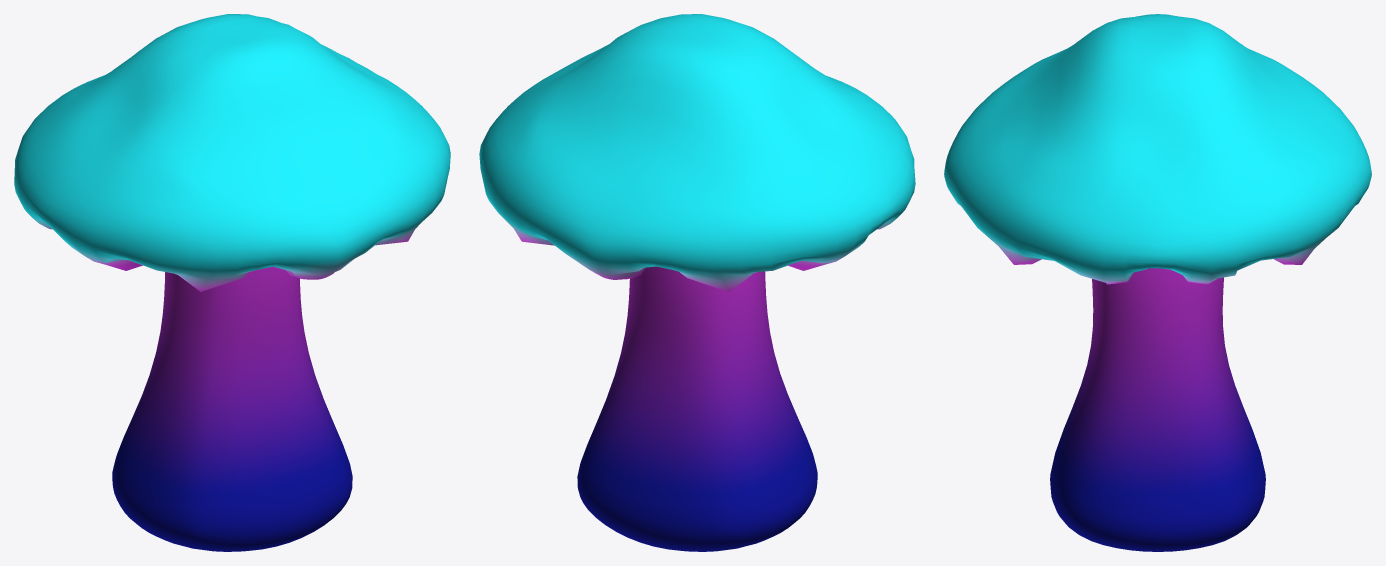
File: Mushroom_cool blueuntitled.fbx
The picture shows the model from 3 angles, left to right: view 1: azimuth 30°, elevation 25°; view 2: azimuth 150°, elevation 25°; view 3: azimuth 270°, elevation 25°; orthographic projection.
Parts seen in each view (by area): view 1: Mushroom; view 2: Mushroom; view 3: Mushroom.
Part boxes in pixels (<box>): Mushroom: <box>14,14,450,551</box>; Mushroom: <box>479,14,915,551</box>; Mushroom: <box>944,14,1371,551</box>.
Size of the model in its own units: 358 by 438 by 344.
1 material, 1 textured.
